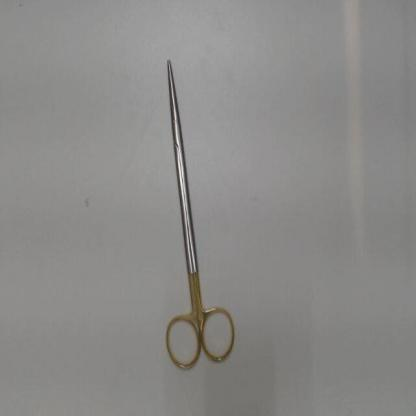7 Metzenbaum Scissors: (161, 54, 241, 378)
